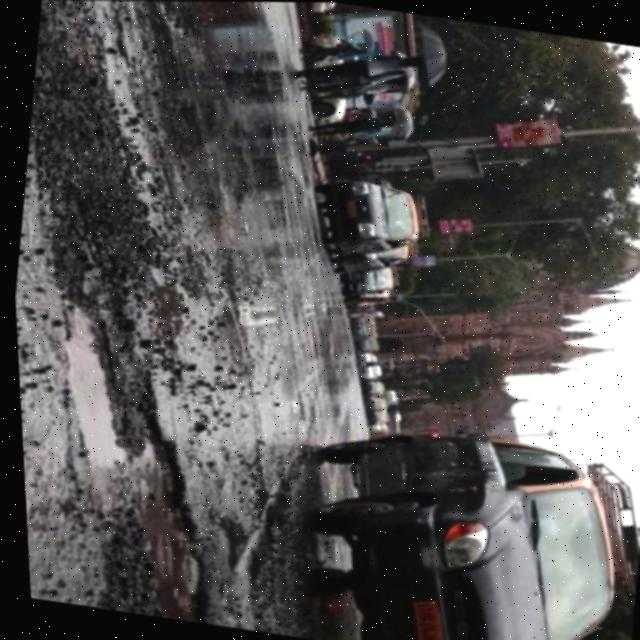Pothole: (11, 262, 278, 628)
